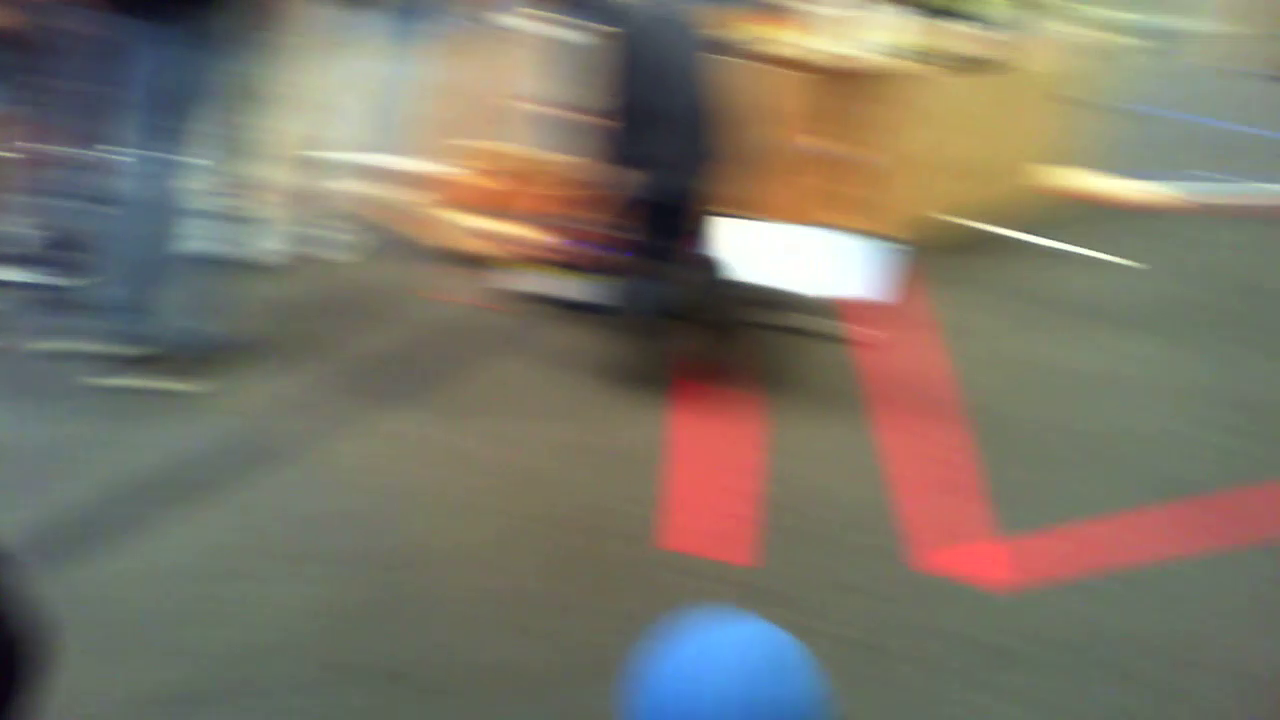blue_cargo: (617, 579, 864, 720)
